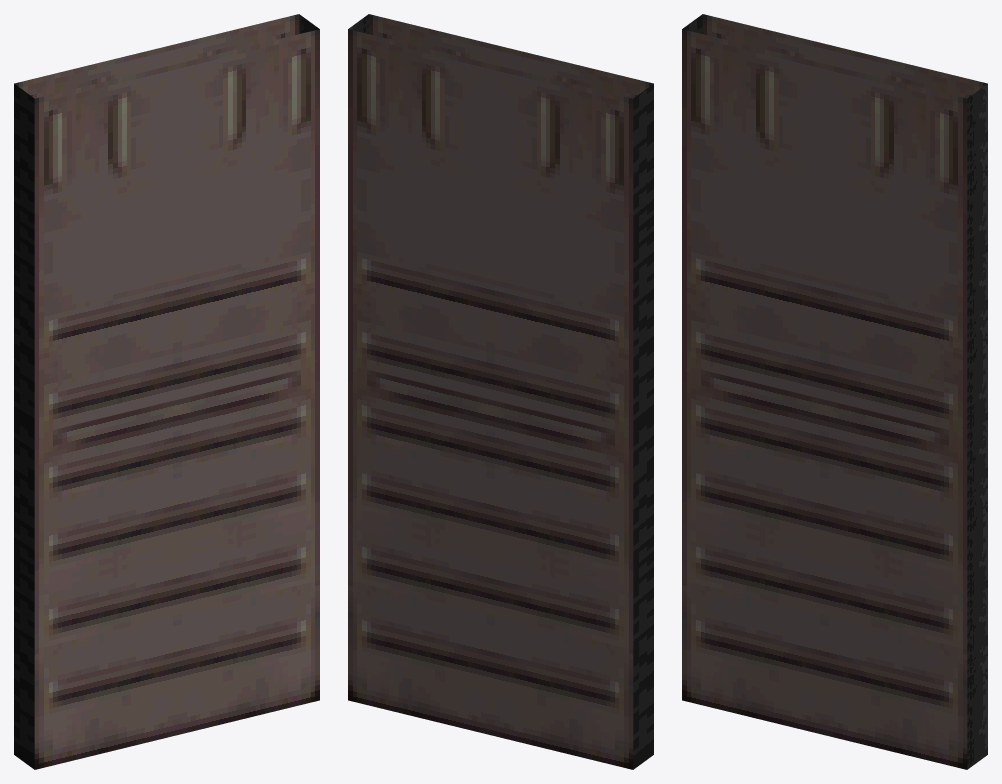
The model's file is brown sliding door.glb.
3 views of the same model, side by side, from view 1: azimuth 30°, elevation 25°; view 2: azimuth 150°, elevation 25°; view 3: azimuth 330°, elevation 25° (orthographic).
Visible parts, largest first — view 1: Room02_primary; view 2: Room02_primary; view 3: Room02_primary.
Boxes of the visible parts, x1,y1,x2,y2 form: Room02_primary: (14,14,319,769); Room02_primary: (348,14,653,769); Room02_primary: (682,14,987,769).
Bounding box in the file's own units: 700 × 1575 × 88.
Materials: 5 (5 with a texture image).
